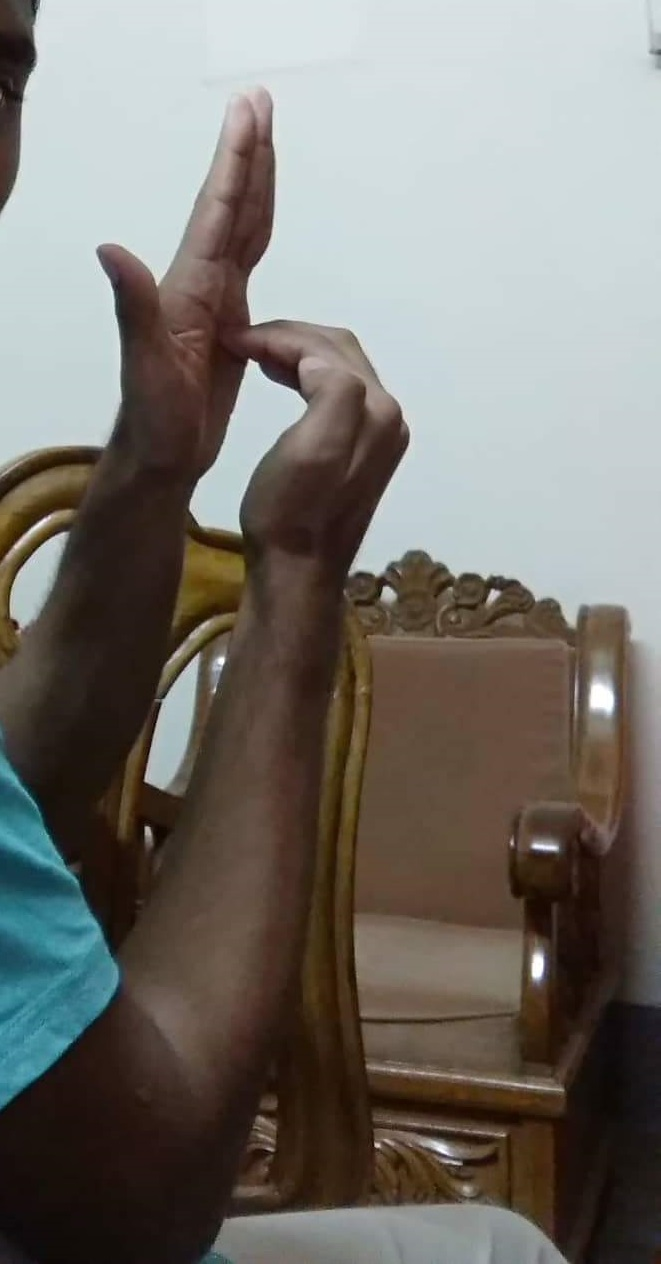ga: (95, 78, 395, 578)
